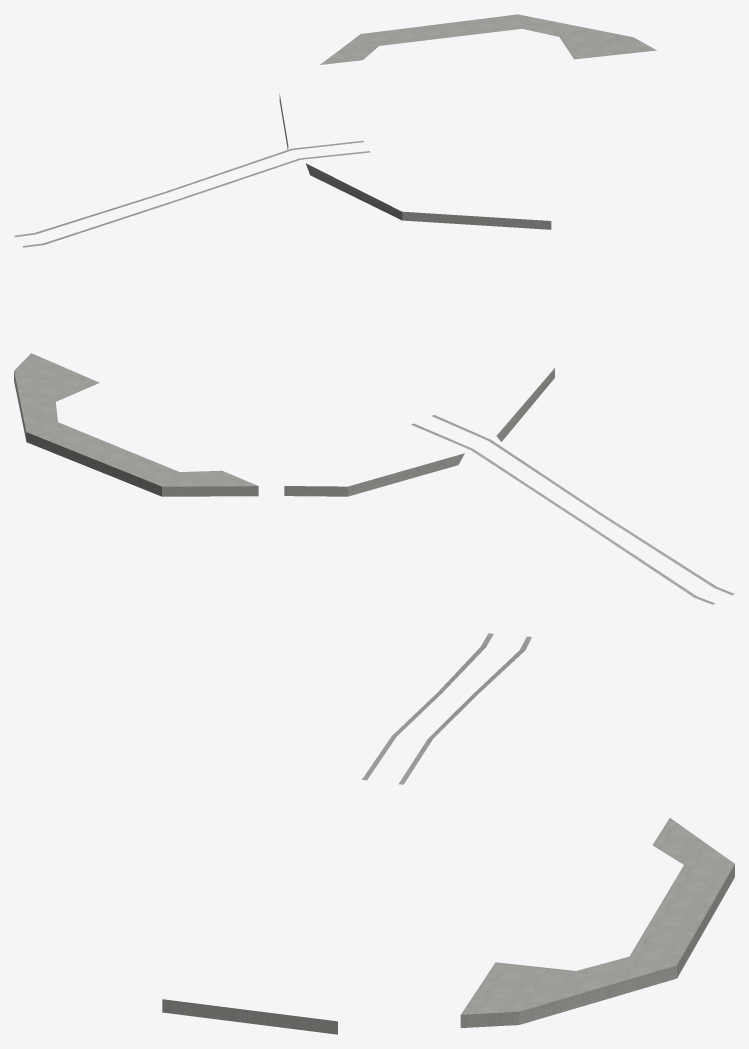
The model's file is kd_stage_1364a3_4_13.glb.
3 renders of one model, top to bottom at view 1: azimuth 30°, elevation 25°; view 2: azimuth 150°, elevation 25°; view 3: azimuth 270°, elevation 25°, orthographic. The views are drawn at different scales.
Parts seen in each view (by area): view 1: kd_stage_1364a3_4_13; view 2: kd_stage_1364a3_4_13; view 3: kd_stage_1364a3_4_13.
Boxes of the visible parts, bbox=[...] form: kd_stage_1364a3_4_13: bbox=[14, 14, 656, 247]; kd_stage_1364a3_4_13: bbox=[14, 353, 734, 604]; kd_stage_1364a3_4_13: bbox=[162, 633, 734, 1034].
Bounding box in the file's own units: 177 × 13.74 × 116.
Materials: 1 (1 with a texture image).
